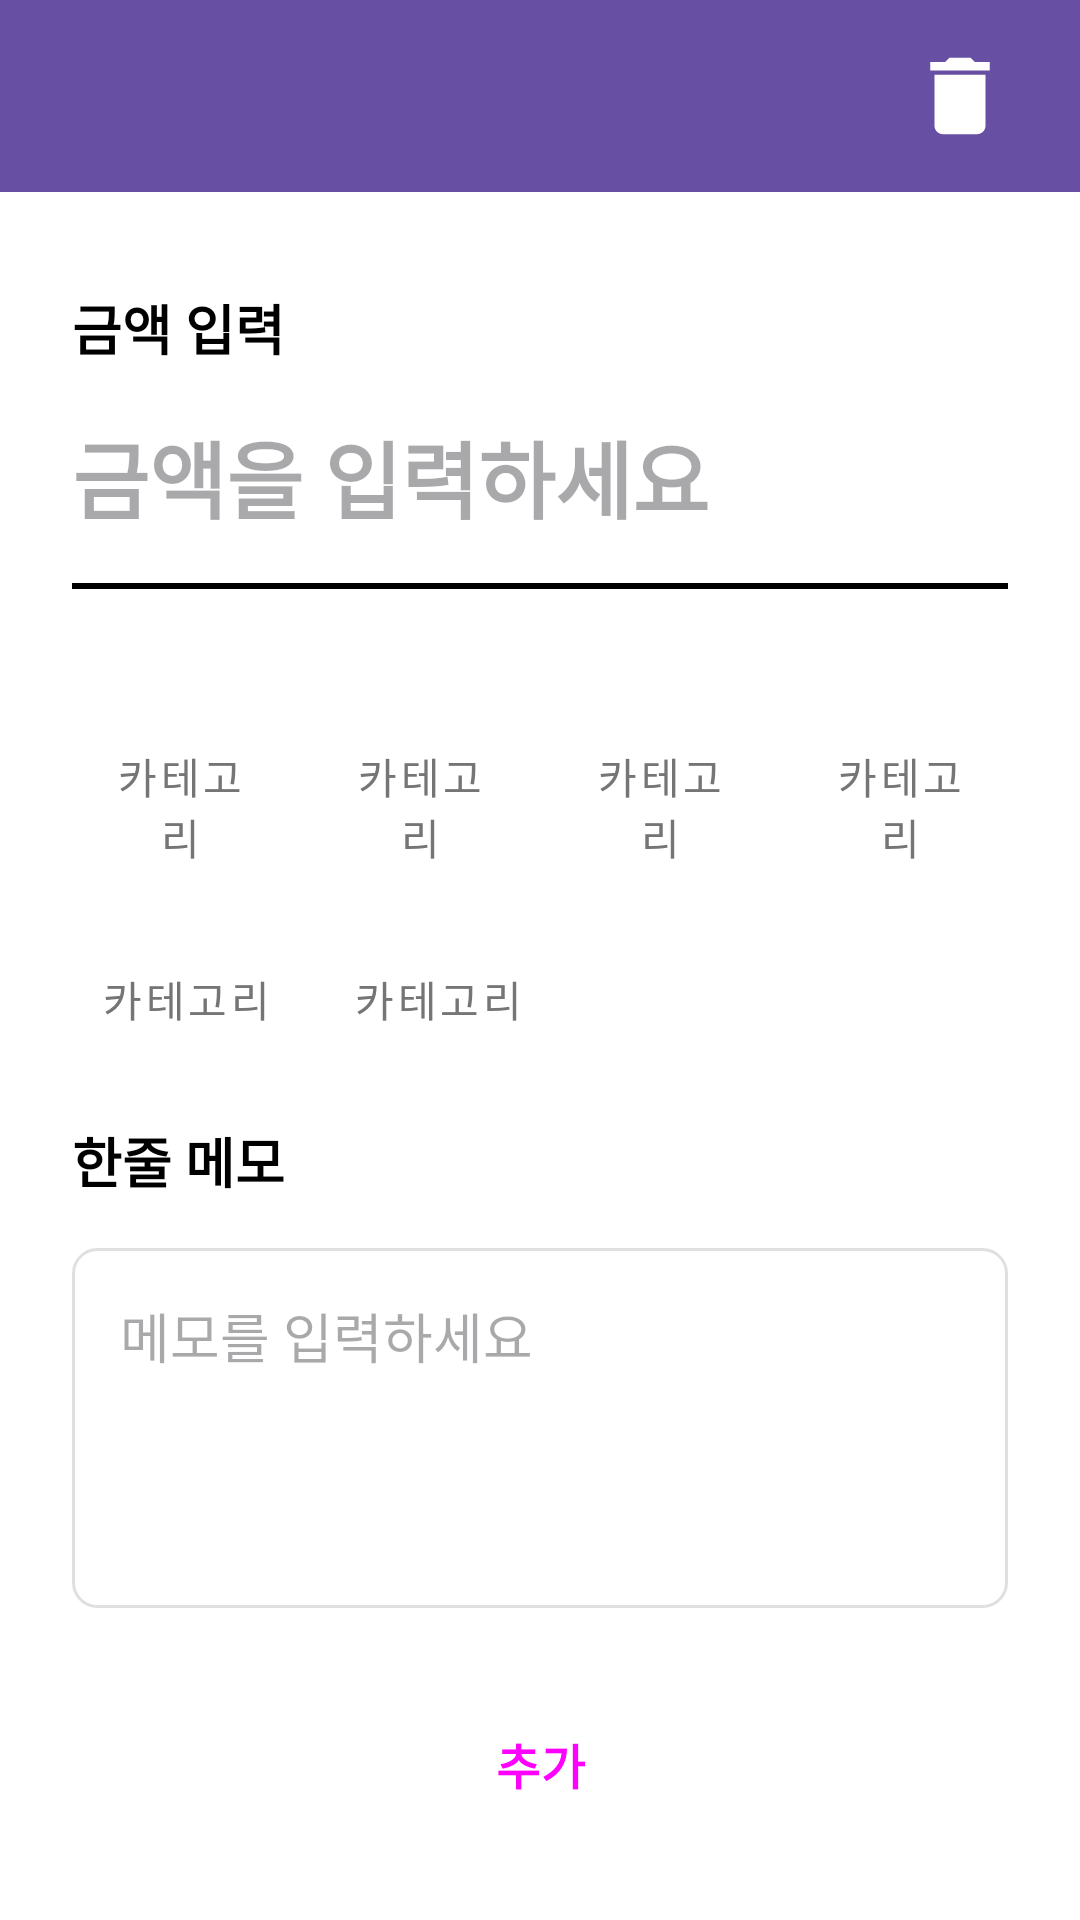

Icons on this 1080×1920 Android screen, each with the point to tap as point (x, y):
삭제: point (960, 96)
